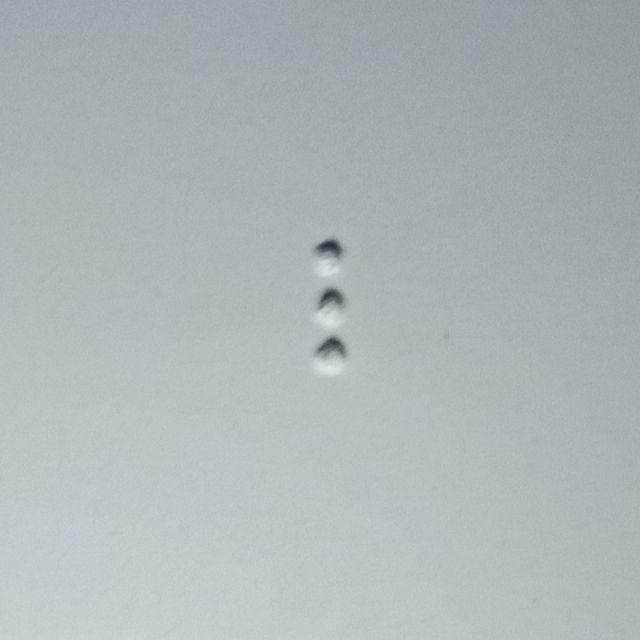l: (311, 240, 395, 377)
